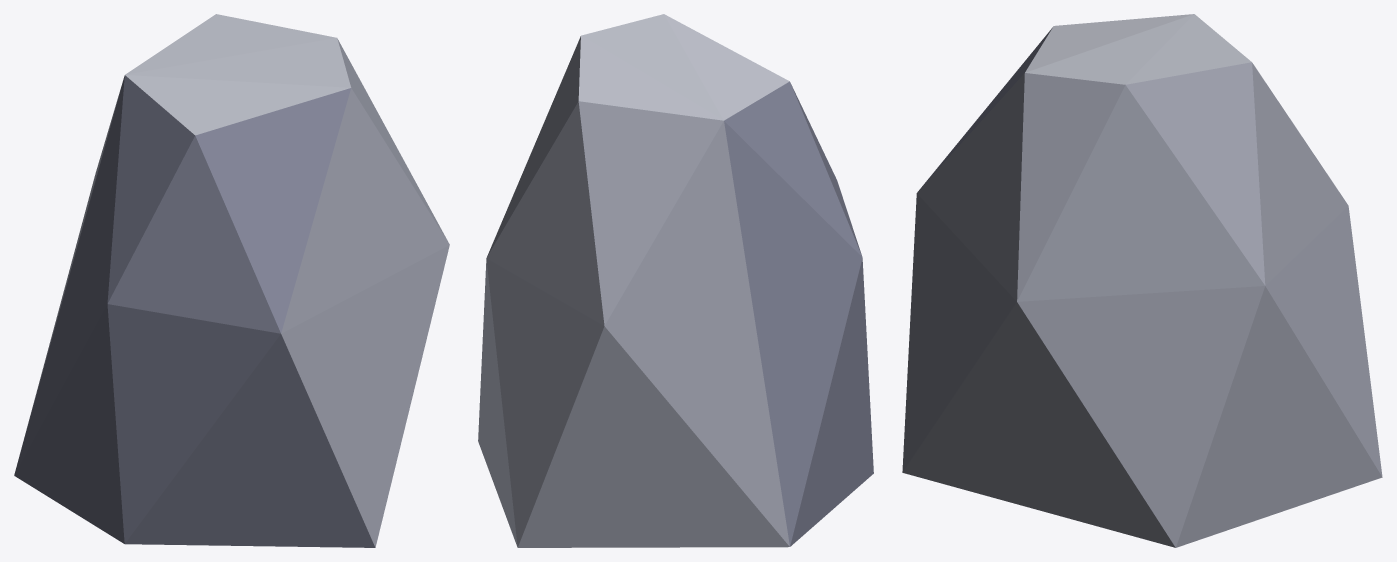
Rendered from stone_tallE.glb.
The picture shows the model from 3 angles, left to right: view 1: azimuth 30°, elevation 25°; view 2: azimuth 150°, elevation 25°; view 3: azimuth 270°, elevation 25°; orthographic projection. The views are drawn at different scales.
Visible parts, largest first — view 1: stone_tallE; view 2: stone_tallE; view 3: stone_tallE.
Part boxes in pixels (x1,y1,x2,y2): stone_tallE: (14,14,449,547); stone_tallE: (478,14,873,547); stone_tallE: (902,14,1382,547).
Size of the model in its own units: 0.3819 by 0.434 by 0.4462.
1 material, 1 textured.
